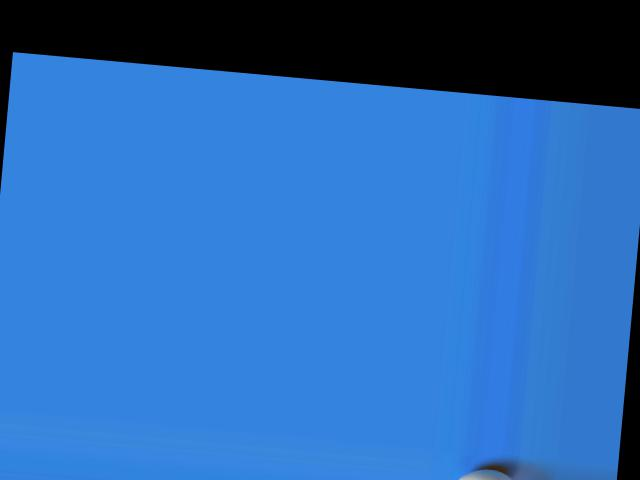egg: (449, 465, 522, 480)
